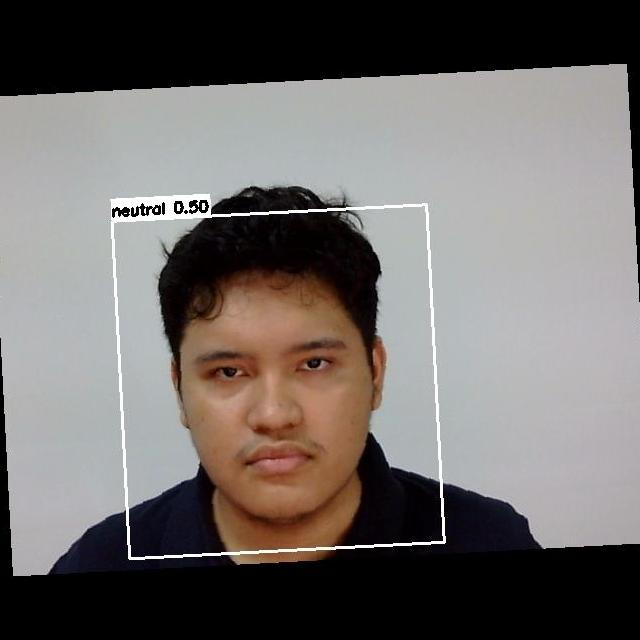Natural: (182, 331, 380, 492)
